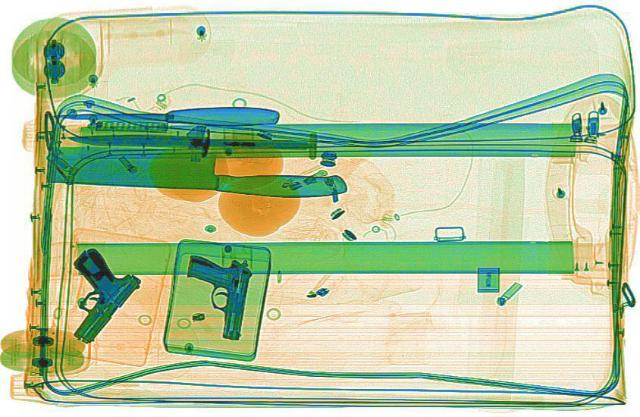Gun: (19, 244, 153, 341), (174, 252, 252, 338)
Knife: (41, 142, 351, 198), (65, 129, 308, 151), (54, 105, 278, 124)
